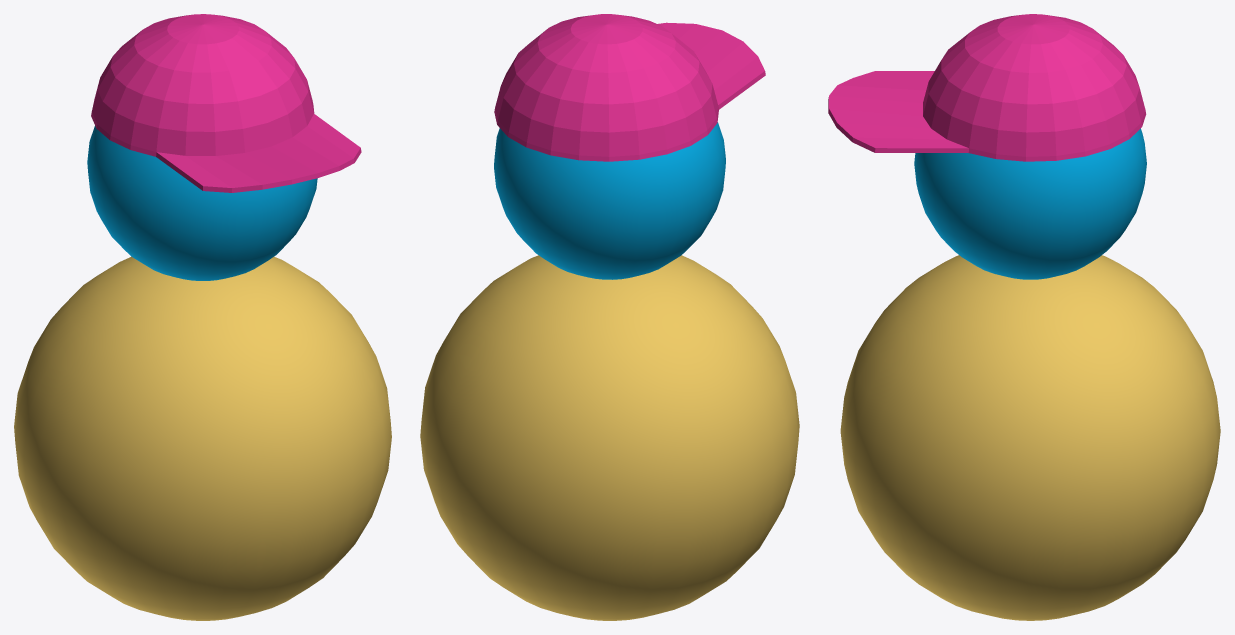
The model's file is cika 7.fbx.
The picture shows the model from 3 angles, left to right: view 1: azimuth 30°, elevation 25°; view 2: azimuth 150°, elevation 25°; view 3: azimuth 270°, elevation 25°; orthographic projection.
Visible parts, largest first — view 1: Sphere.012; view 2: Sphere.012; view 3: Sphere.012.
Part boxes in pixels (left/top/right/bottom): Sphere.012: left=14, top=14, right=391, bottom=620; Sphere.012: left=420, top=14, right=799, bottom=620; Sphere.012: left=828, top=14, right=1220, bottom=620.
Bounding box in the file's own units: 183 × 308 × 189.
